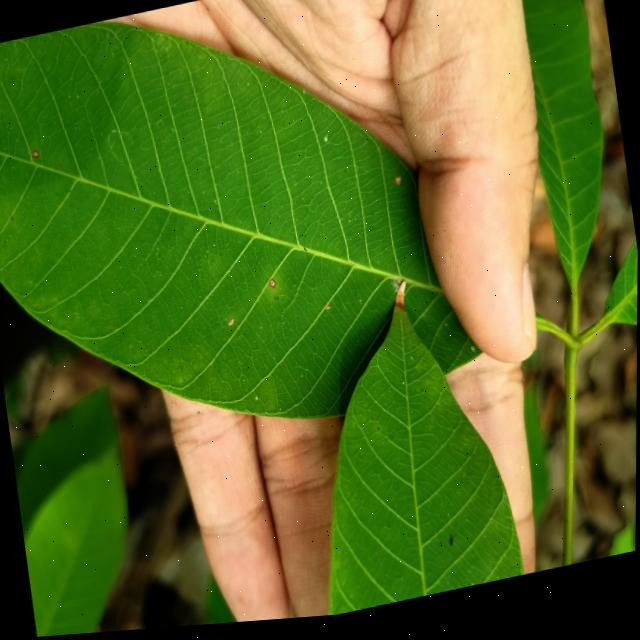Colletotrichum: (269, 281, 276, 292), (33, 150, 40, 159)
Leaf-Blight: (393, 287, 410, 318)
